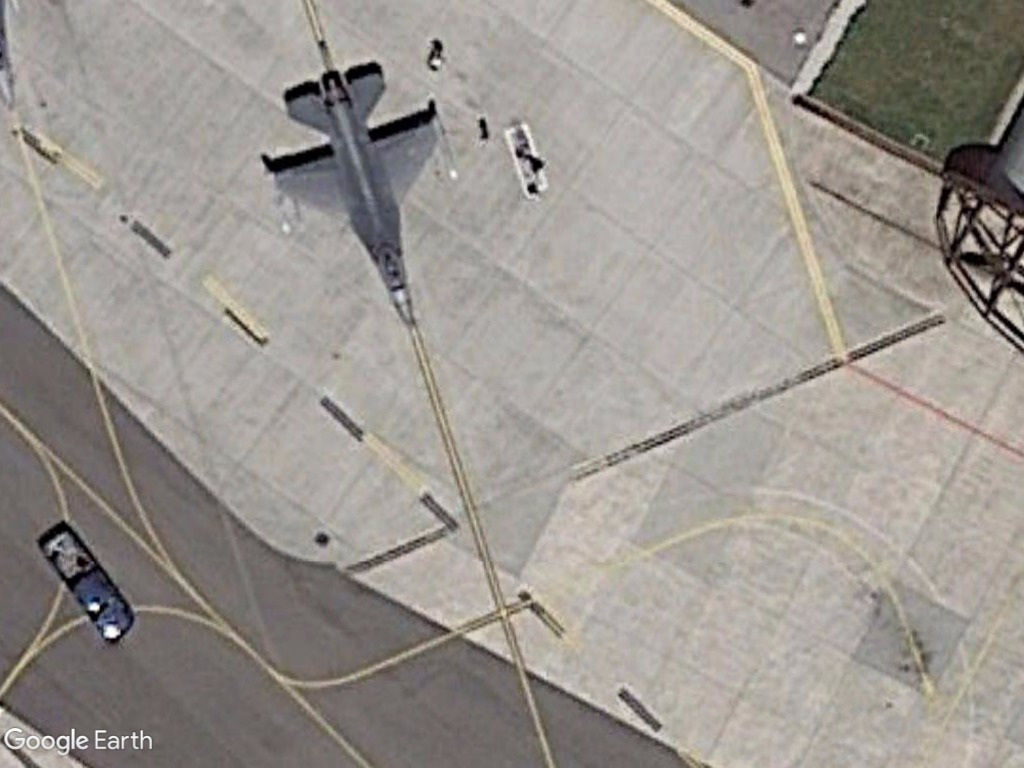fighter: (261, 67, 463, 349)
